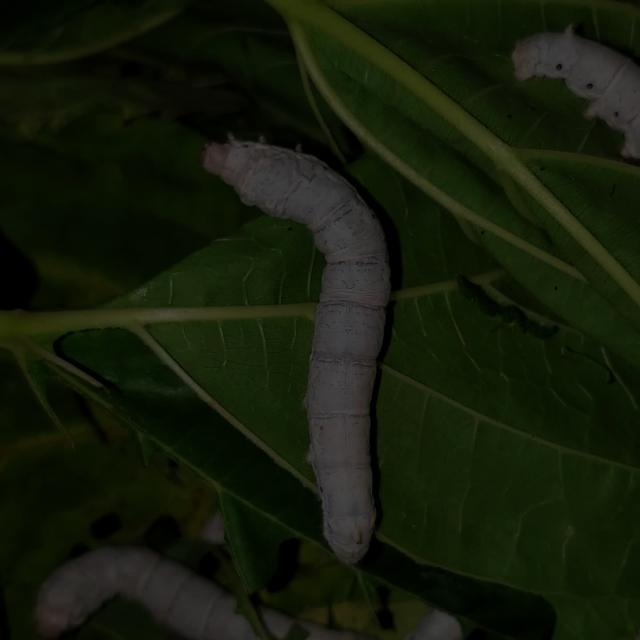Healthy: (192, 129, 407, 569)
